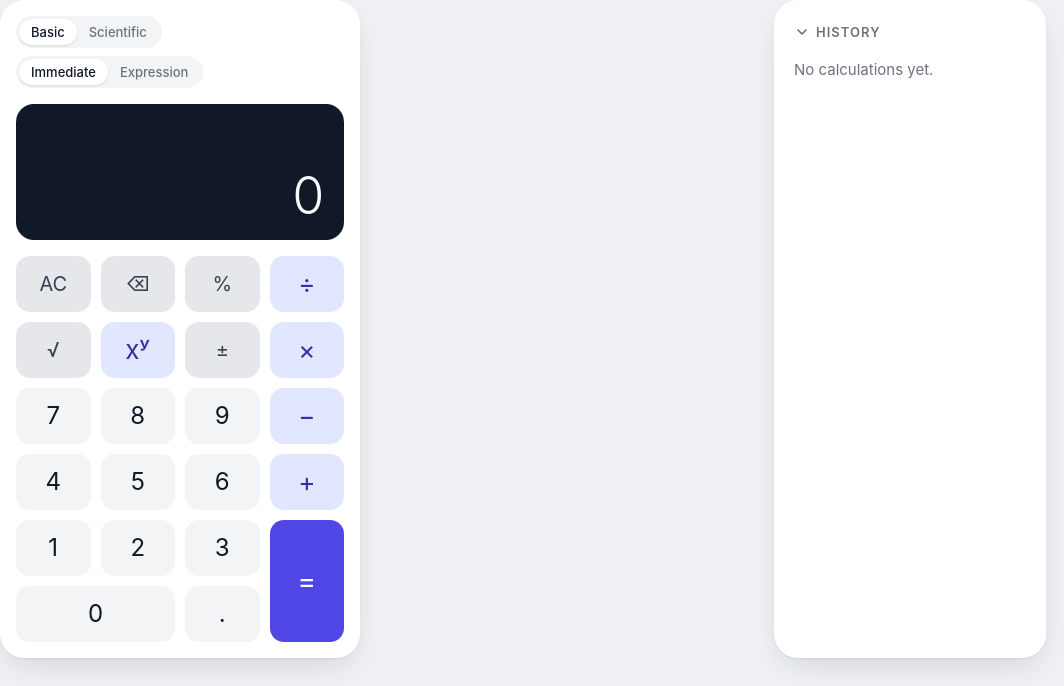
Test: Calculator › does not double-apply Enter when a key has focus
Click the button "2": (138, 548) [100,520,175,576]
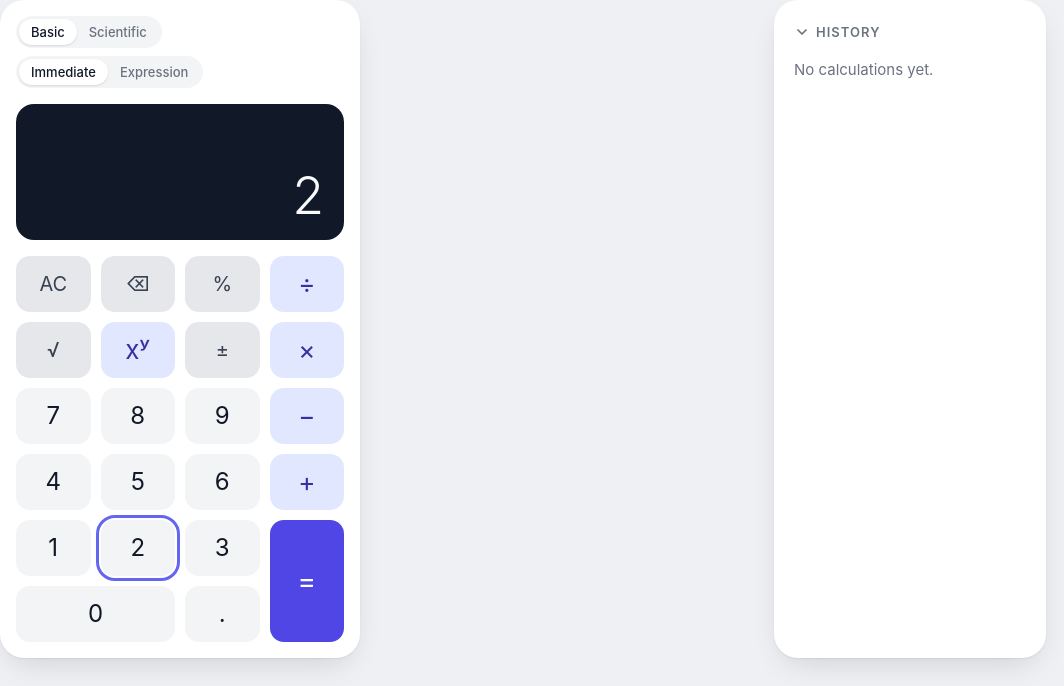
Click the button named "Add": (307, 482) [270,454,344,510]
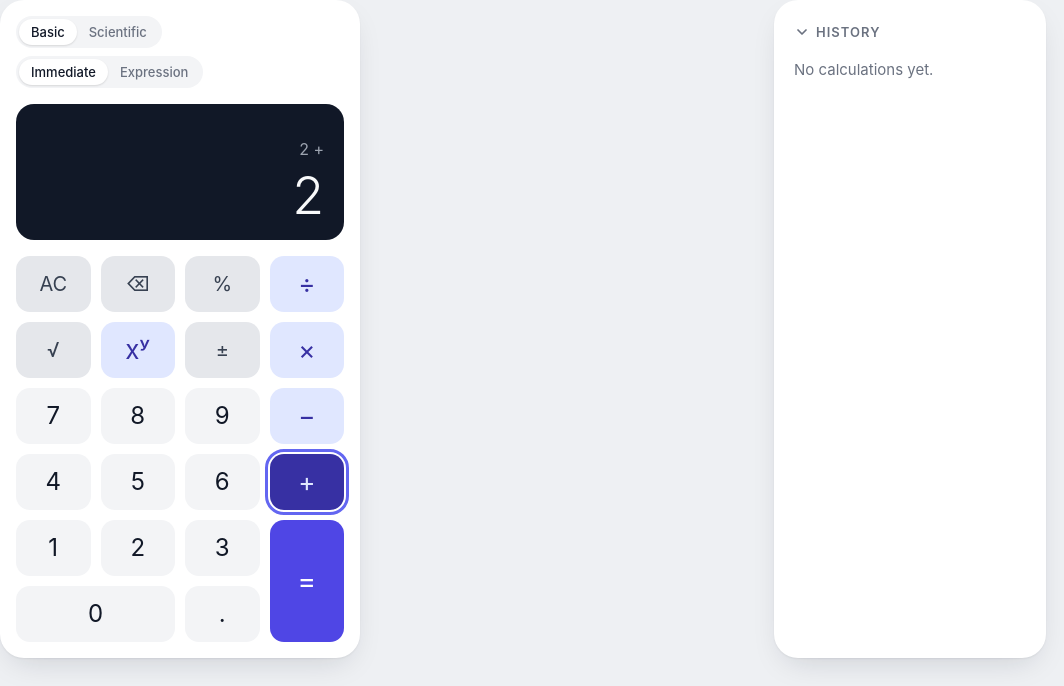
Click the button "3": (222, 548) [185,520,260,576]
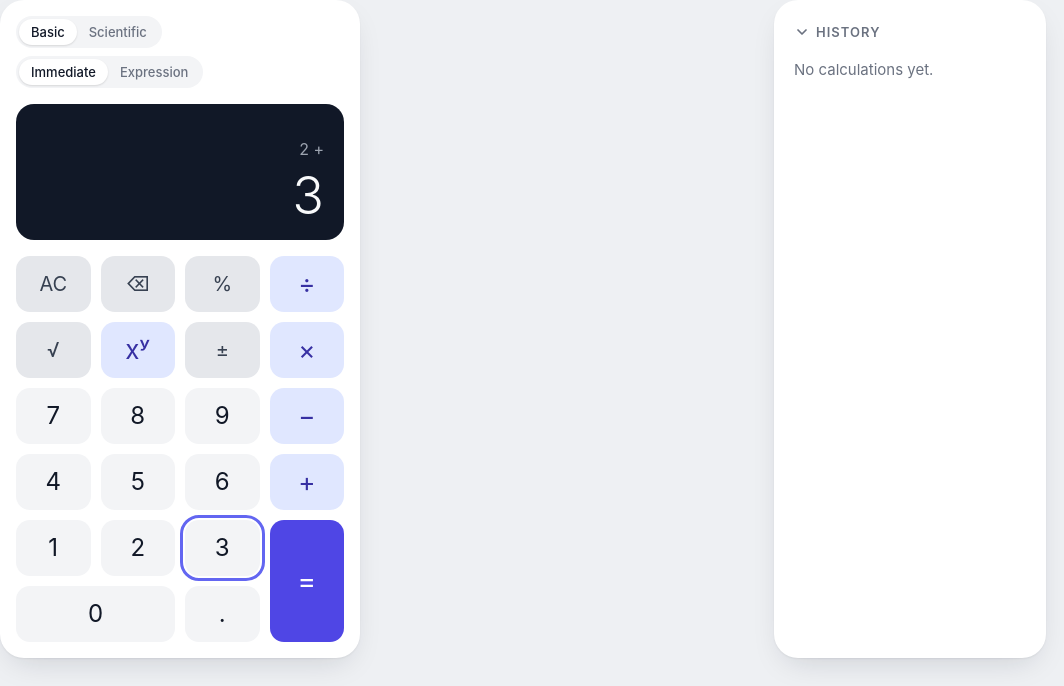
Press Enter
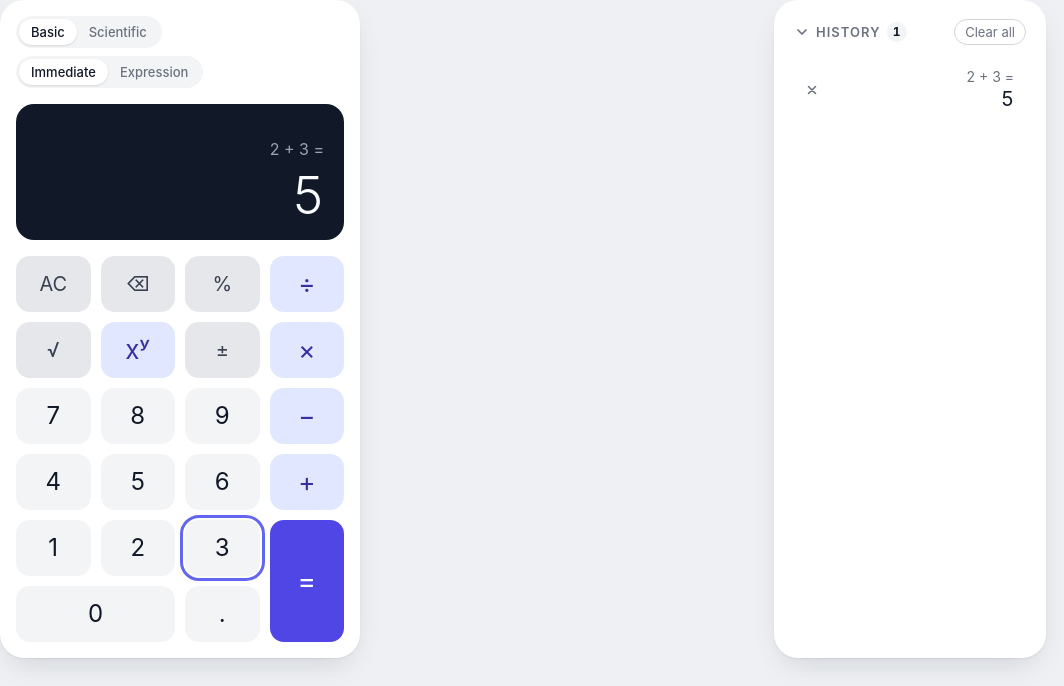
Now the message reads "5", box [291,164,324,227]
